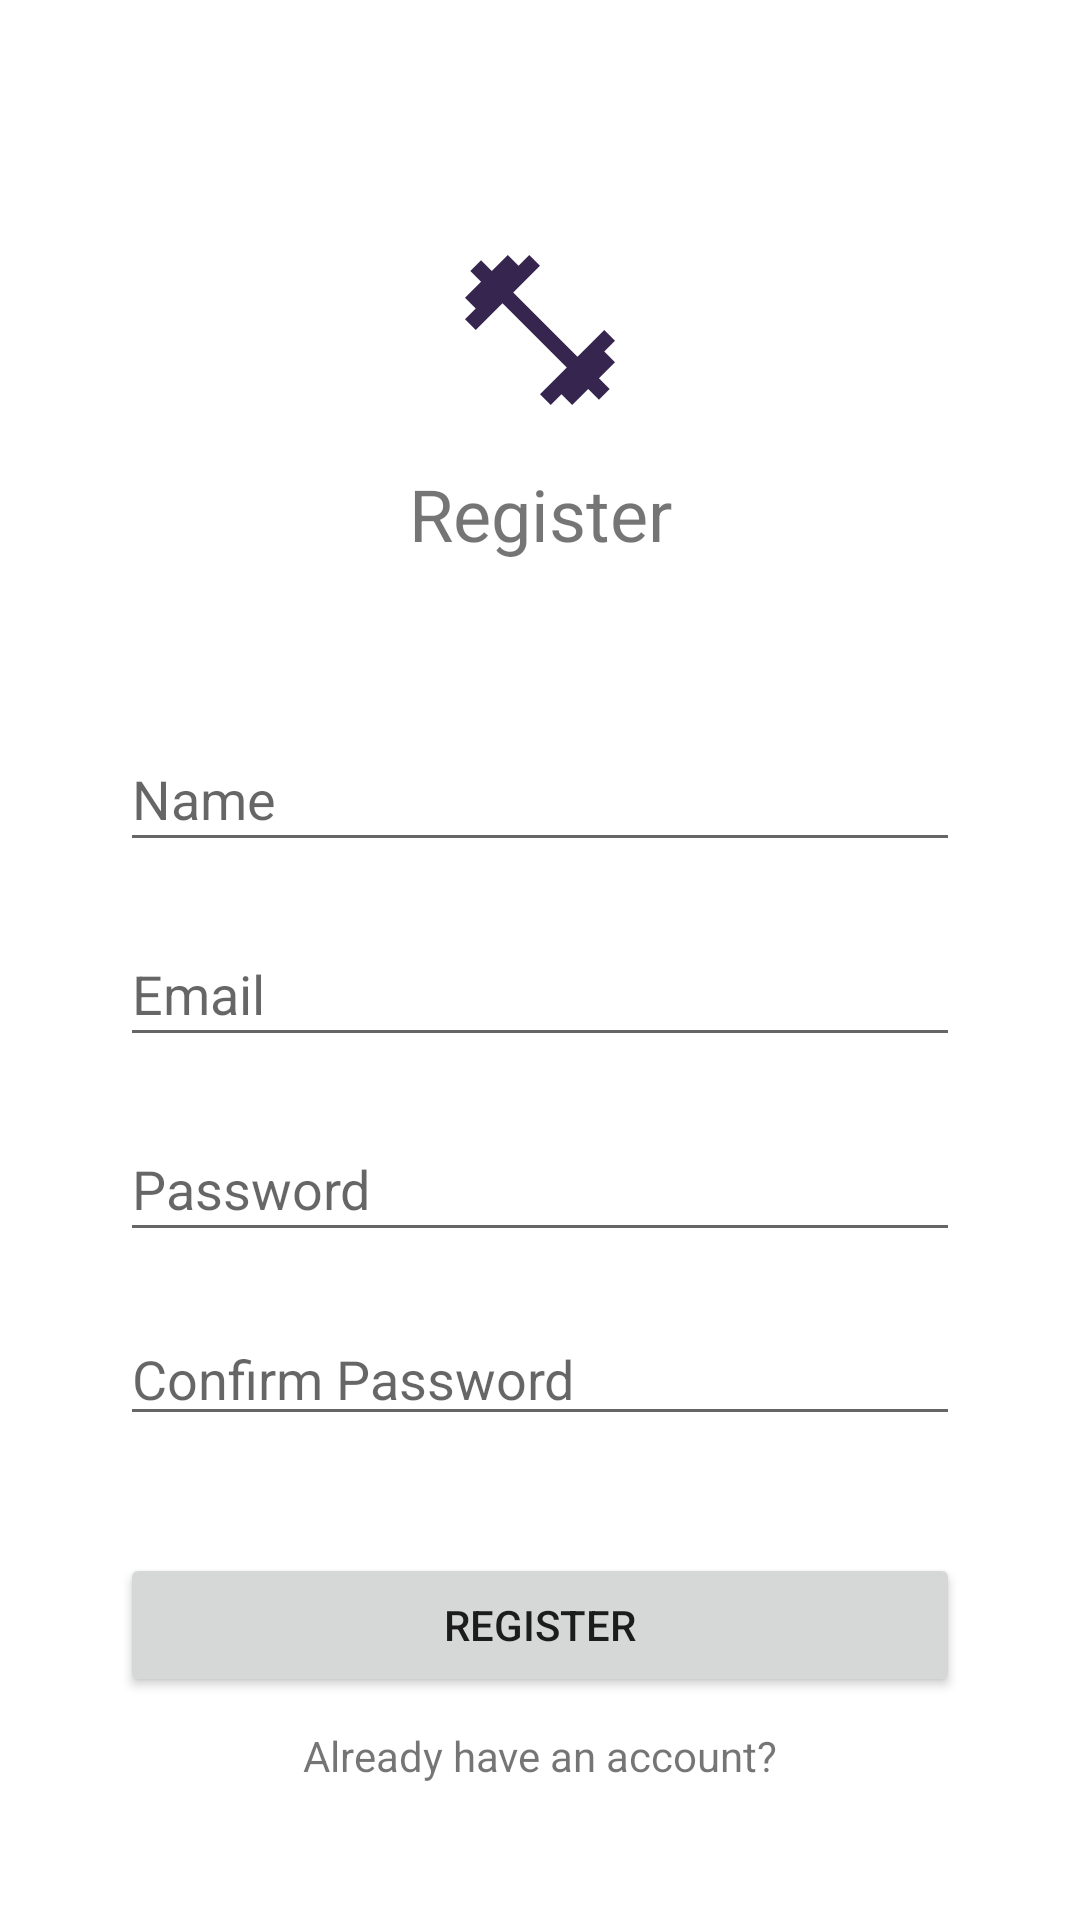

Icon bounding boxes for this 1080px×1920px phone screenshot, format (x1, y1, x2, y2):
fitness center: (465, 255, 615, 405)
